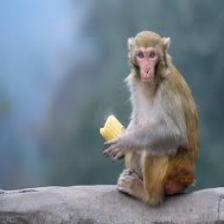monkey: (102, 29, 197, 204)
